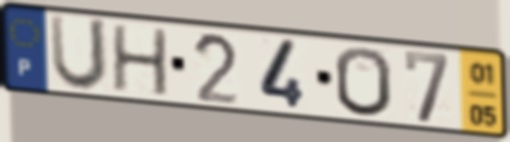2: (190, 30, 244, 106)
4: (256, 35, 312, 113)
7: (401, 48, 453, 125)
H: (109, 23, 172, 99)
O: (332, 45, 395, 120)
U: (47, 12, 111, 95)
